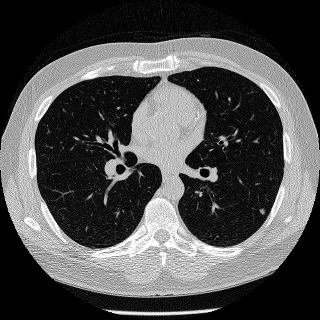nodule: (260, 209, 264, 213)
